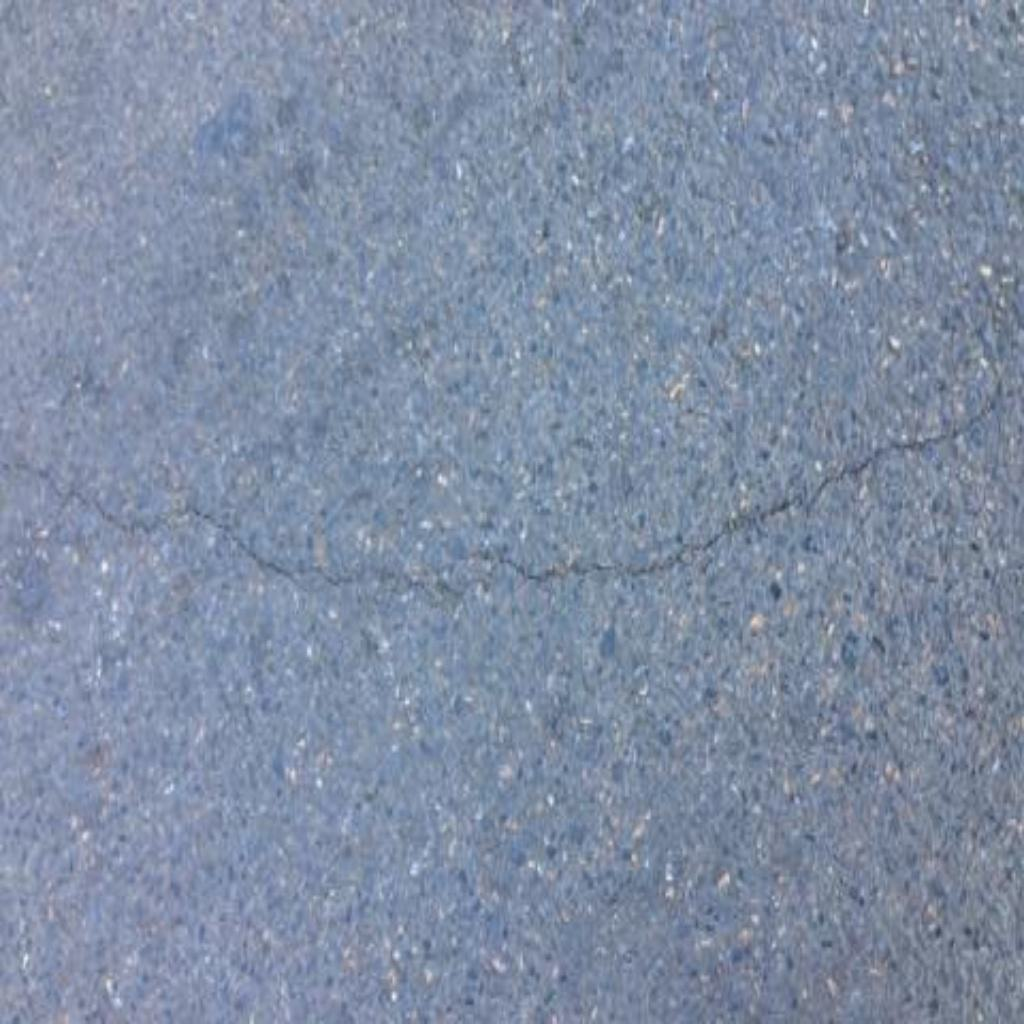Crack: (1, 342, 1024, 603)
